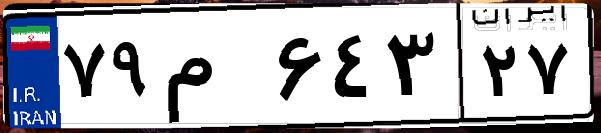2: (475, 38, 525, 113)
3: (385, 28, 445, 110)
4: (330, 28, 385, 110)
6: (270, 28, 330, 110)
7: (57, 26, 110, 100), (525, 38, 570, 115)
9: (110, 28, 158, 98)
م: (158, 20, 270, 120)
